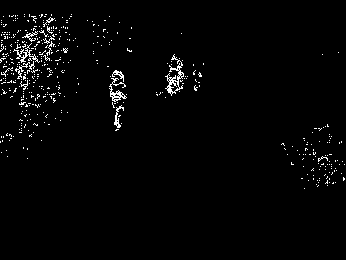person: (104, 67, 130, 129)
